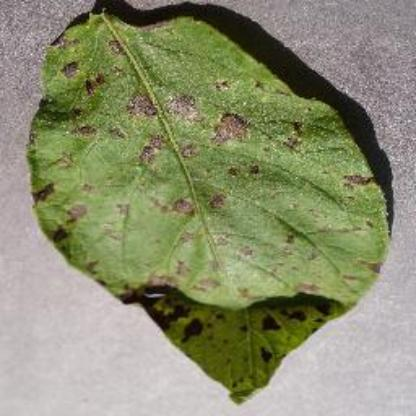Early-Blight: (28, 6, 388, 398)
